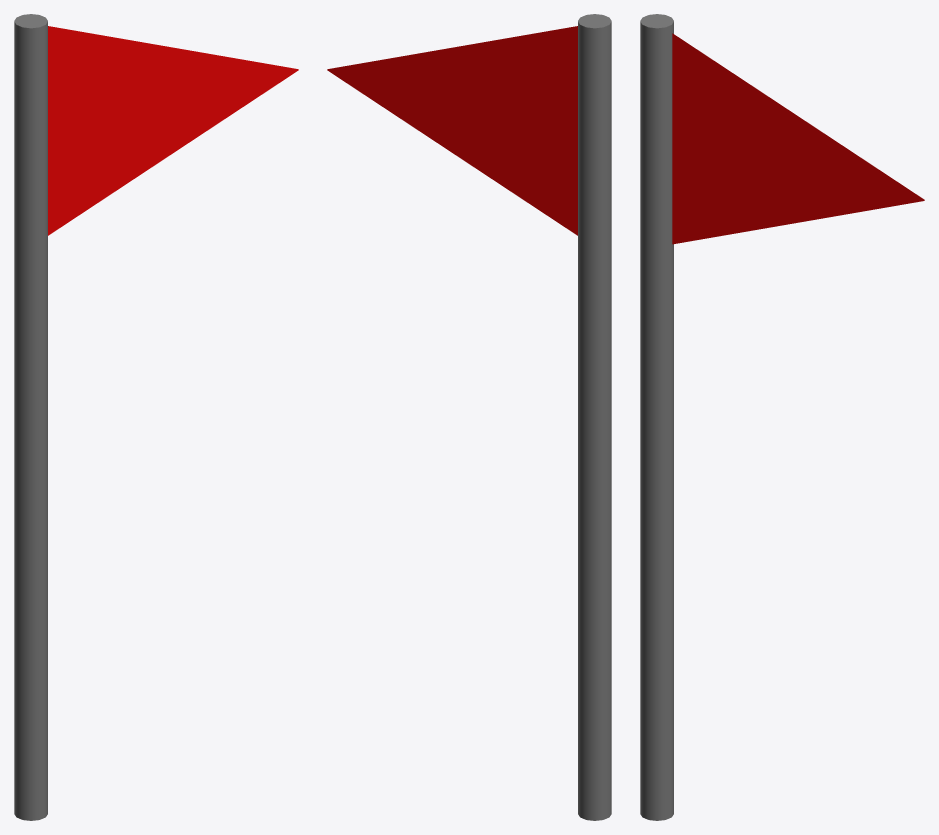
3 views of the same model, side by side, from view 1: azimuth 30°, elevation 25°; view 2: azimuth 150°, elevation 25°; view 3: azimuth 330°, elevation 25° (orthographic).
Parts seen in each view (by area): view 1: qigan, qizi; view 2: qigan, qizi; view 3: qigan, qizi.
Part boxes in pixels (x1,y1,x2,y2): qigan: (14, 14, 47, 820); qizi: (48, 26, 298, 235); qigan: (578, 14, 611, 820); qizi: (327, 26, 577, 235); qigan: (640, 14, 673, 820); qizi: (672, 33, 924, 244).
Bounding box in the file's own units: 112 × 300 × 11.66.
